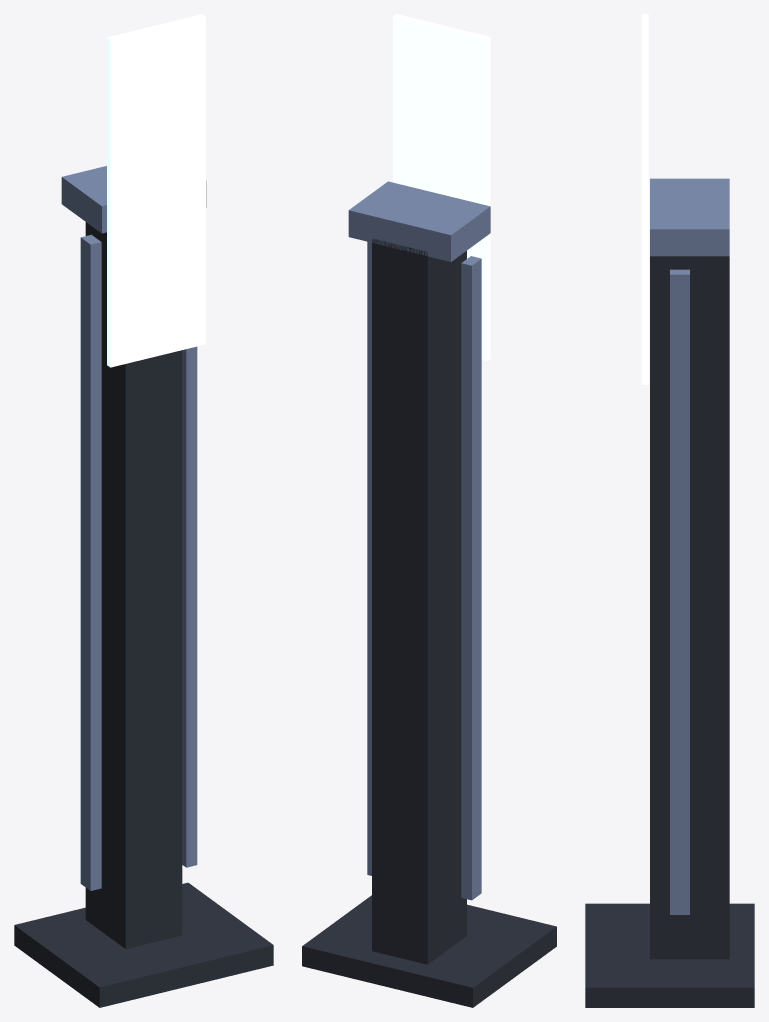
3 renders of one model, left to right at view 1: azimuth 30°, elevation 25°; view 2: azimuth 150°, elevation 25°; view 3: azimuth 270°, elevation 25°, orthographic.
Visible parts, largest first — view 1: column-body, diffuser-panel, column-base, slot-rail-left, slot-rail-right, column-cap; view 2: column-body, diffuser-panel, column-base, slot-rail-left, column-cap, slot-rail-right; view 3: column-body, column-base, slot-rail-right, column-cap, diffuser-panel.
Boxes of the visible parts, left/top/right/bottom form: column-body: left=85, top=222, right=182, bottom=948; diffuser-panel: left=107, top=14, right=205, bottom=367; column-base: left=14, top=882, right=273, bottom=1007; slot-rail-left: left=80, top=234, right=101, bottom=890; slot-rail-right: left=182, top=346, right=197, bottom=867; column-cap: left=61, top=166, right=206, bottom=233; column-body: left=372, top=238, right=466, bottom=964; diffuser-panel: left=393, top=14, right=490, bottom=360; column-base: left=302, top=895, right=556, bottom=1007; slot-rail-left: left=461, top=256, right=481, bottom=900; column-cap: left=348, top=181, right=490, bottom=261; slot-rail-right: left=367, top=241, right=371, bottom=875; column-body: left=650, top=256, right=729, bottom=959; column-base: left=585, top=903, right=754, bottom=1007; slot-rail-right: left=670, top=269, right=689, bottom=914; column-cap: left=650, top=178, right=729, bottom=256; diffuser-panel: left=641, top=14, right=648, bottom=384.
Size of the model in its own units: 0.4 by 2.06 by 0.34.
